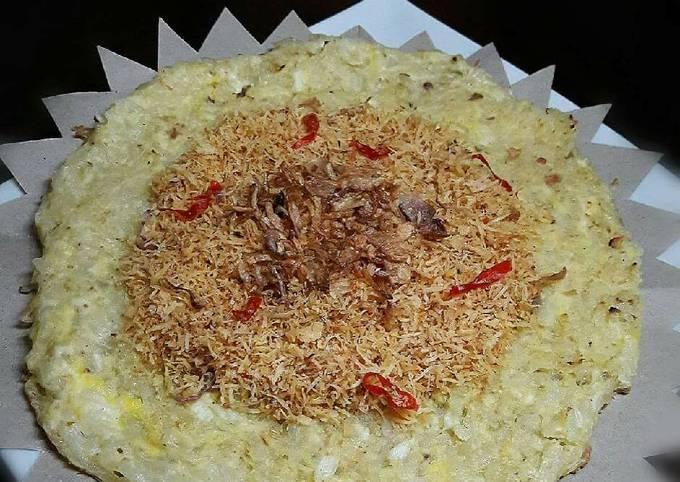kerak_telor: (23, 38, 643, 482)
